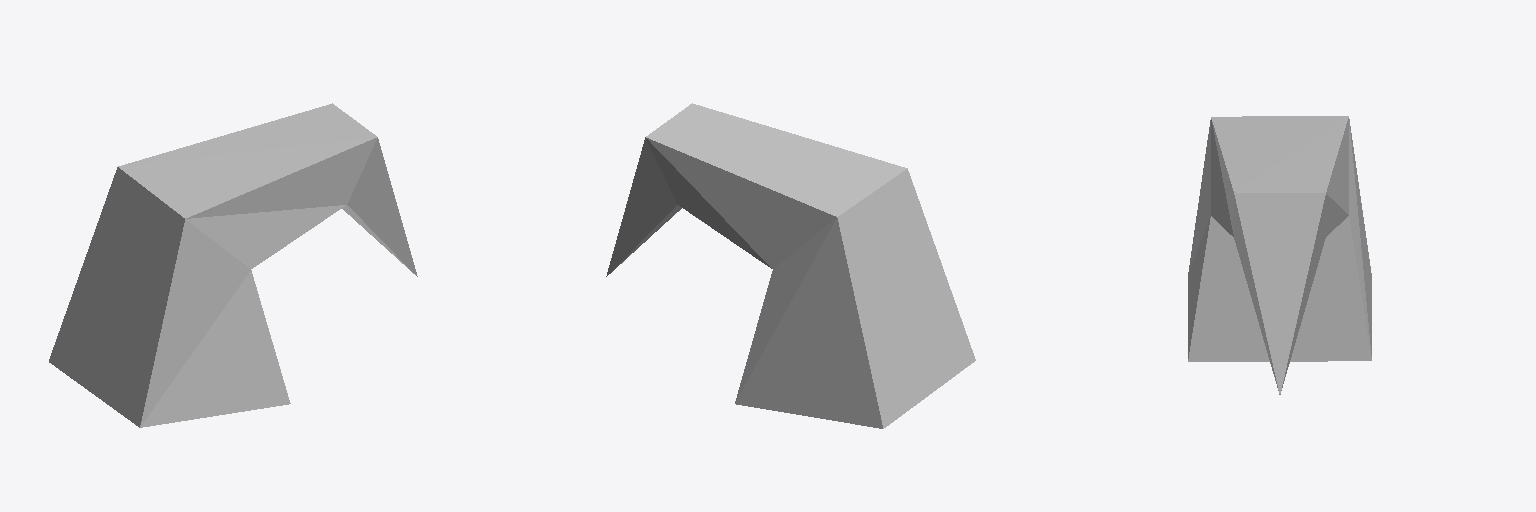
Rendered from skeletal_000015.obj.
3 views of the same model, side by side, from view 1: azimuth 30°, elevation 25°; view 2: azimuth 150°, elevation 25°; view 3: azimuth 270°, elevation 25° (orthographic).
Visible parts, largest first — view 1: Cube; view 2: Cube; view 3: Cube.
Part boxes in pixels (x1,y1,x2,y2): Cube: (49, 103, 417, 427); Cube: (606, 103, 975, 428); Cube: (1188, 116, 1371, 394).
Size of the model in its own units: 4.07 by 2.68 by 2.